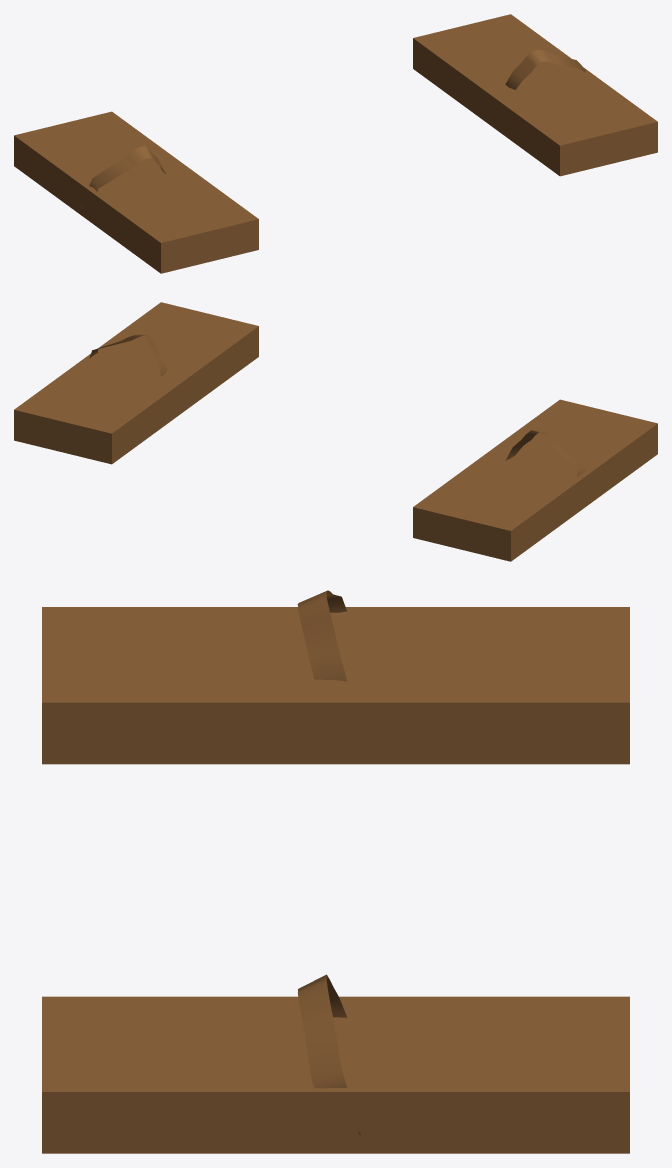
Rendered from geta.glb.
3 renders of one model, top to bottom at view 1: azimuth 30°, elevation 25°; view 2: azimuth 150°, elevation 25°; view 3: azimuth 270°, elevation 25°, orthographic. The views are drawn at different scales.
Visible parts, largest first — view 1: geta; view 2: geta; view 3: geta.
Boxes of the visible parts, x1,y1,x2,y2 form: geta: [14, 14, 657, 273]; geta: [14, 302, 657, 561]; geta: [42, 590, 629, 1153].
Bounding box in the file's own units: 0.5079 × 0.061 × 0.26.
